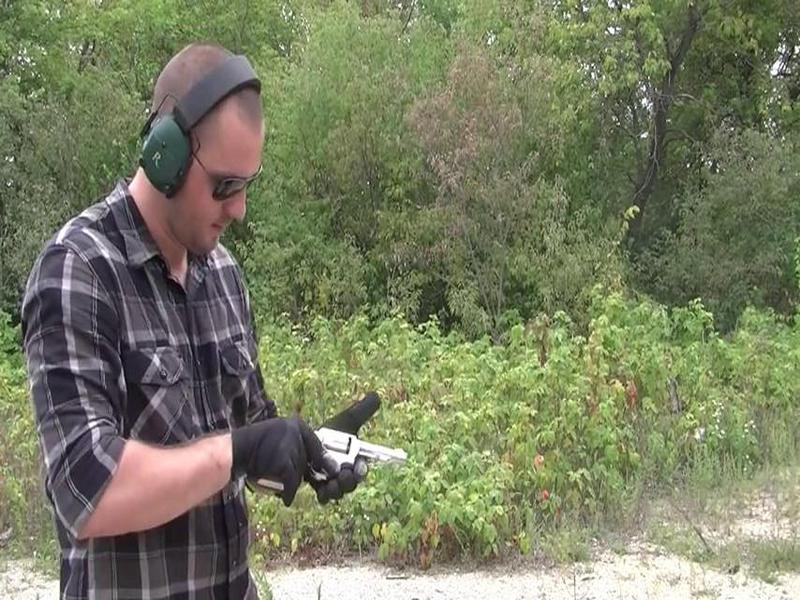Revolver: (267, 418, 410, 508)
